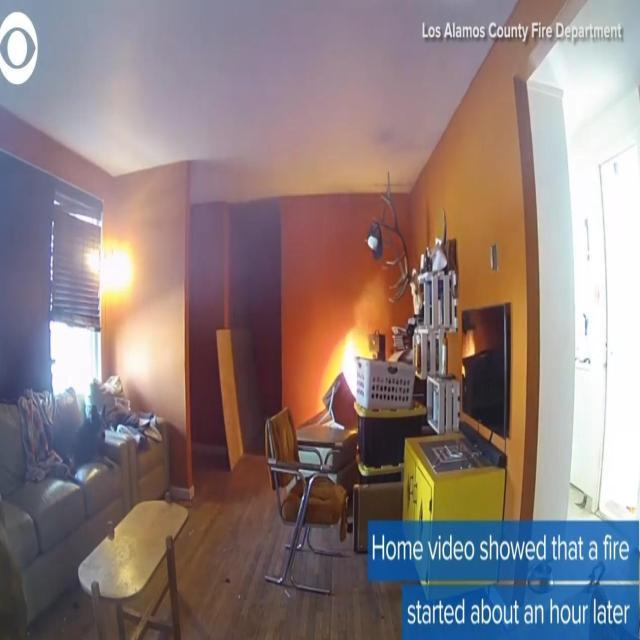smoke: (341, 326, 376, 402)
